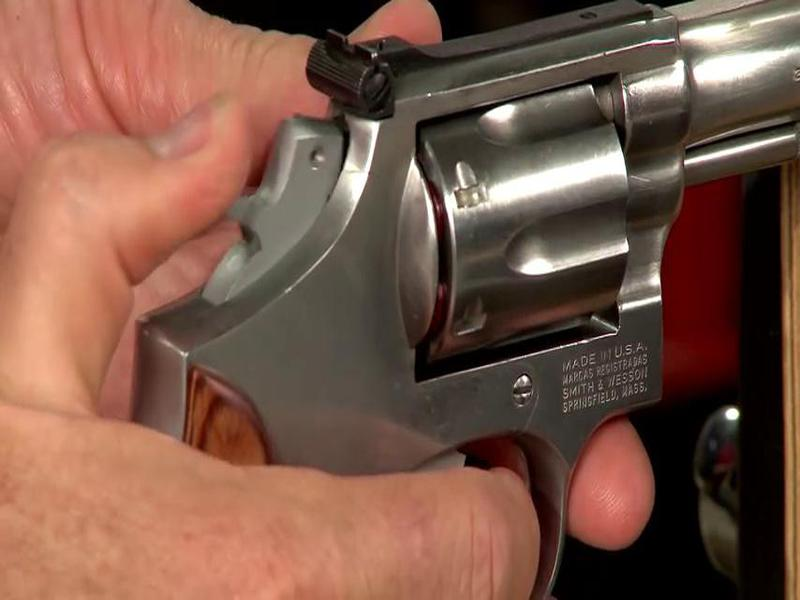Revolver: (119, 2, 800, 504)
